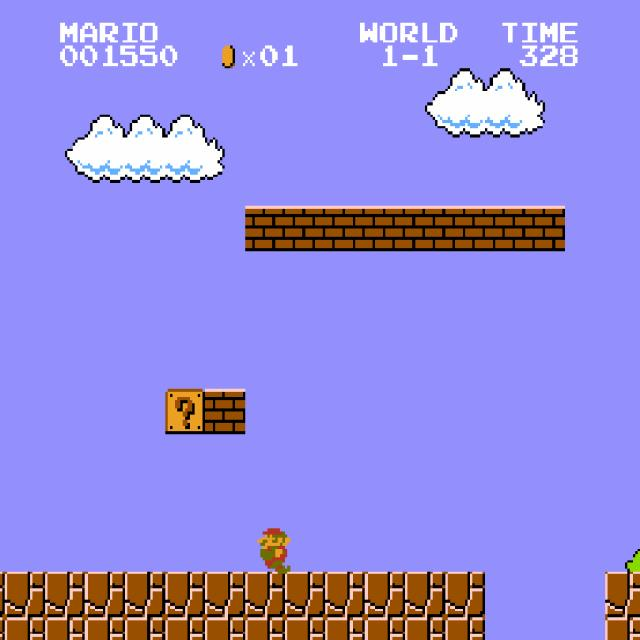brick_block: (205, 389, 245, 434), (245, 206, 285, 251), (285, 206, 325, 251), (325, 206, 365, 251), (365, 206, 405, 251), (405, 206, 445, 251), (445, 206, 485, 251), (485, 206, 525, 251), (525, 206, 565, 251)
little_mario: (250, 526, 293, 574)
mystery_block: (165, 389, 205, 434)
undestructible_block: (5, 572, 45, 617), (45, 572, 85, 617), (85, 572, 125, 617), (125, 572, 165, 617), (165, 572, 205, 617), (205, 572, 245, 617), (245, 572, 285, 617), (285, 572, 325, 617), (325, 572, 365, 617), (365, 572, 405, 617), (405, 572, 445, 617), (445, 572, 485, 617), (605, 572, 640, 617), (5, 617, 45, 640), (45, 617, 85, 640), (85, 617, 125, 640), (125, 617, 165, 640), (165, 617, 205, 640), (205, 617, 245, 640), (245, 617, 285, 640), (285, 617, 325, 640), (325, 617, 365, 640), (365, 617, 405, 640), (405, 617, 445, 640), (445, 617, 485, 640), (605, 617, 640, 640), (0, 572, 5, 617), (0, 617, 5, 640)
